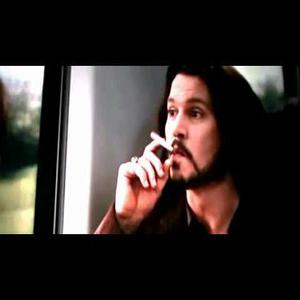cigarette: (150, 131, 176, 156)
